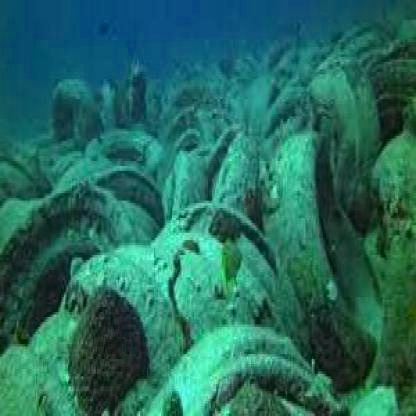tire: (265, 126, 416, 416), (1, 141, 124, 372), (98, 144, 206, 262)
